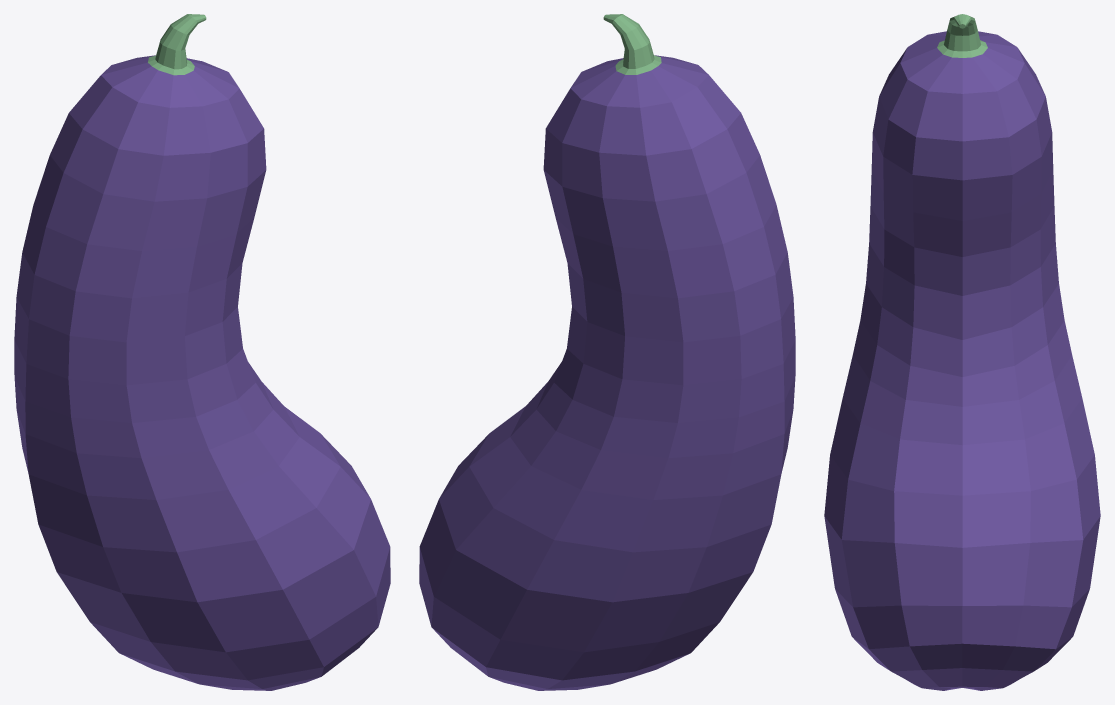
Rendered from eggplant.fbx.
3 renders of one model, left to right at view 1: azimuth 30°, elevation 25°; view 2: azimuth 150°, elevation 25°; view 3: azimuth 270°, elevation 25°, orthographic. The views are drawn at different scales.
Visible parts, largest first — view 1: eggplant; view 2: eggplant; view 3: eggplant.
Boxes of the visible parts, box(x1,y1,x2,y2) form: eggplant: box(14, 14, 390, 690); eggplant: box(419, 14, 795, 690); eggplant: box(824, 14, 1100, 690).
Bounding box in the file's own units: 102 × 192 × 75.36.
